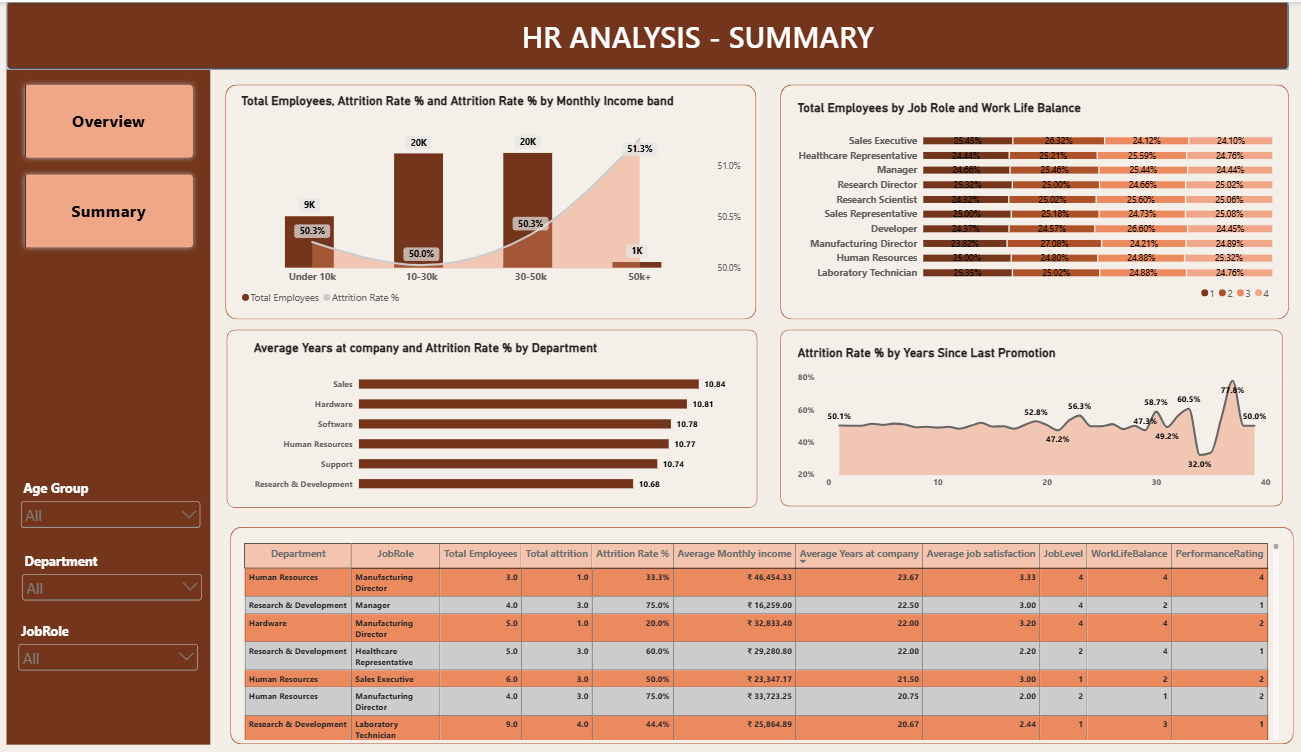

This screenshot's page, from the dashboard's own definition file:
{"tool":"powerbi","page":{"name":"Summary","canvas":[1920,1100],"ordinal":1},"visuals":[{"type":"shape","box":[26,97.4,296.5,982.5],"z":0},{"type":"shape","box":[24.9,0,1866.3,97.8],"z":1000},{"type":"textbox","box":[730.8,19.2,600.4,57.5],"z":2000},{"type":"shape","box":[343.8,120,772.6,341.9],"z":3000},{"type":"shape","box":[1151.3,120,740.1,341.9],"z":4000},{"type":"shape","box":[346.3,476.1,772.6,259.7],"z":5000},{"type":"shape","box":[1151.3,476.1,731.5,257.5],"z":6000},{"type":"slicer","fields":{"Values":["Table1.Age Group"]},"box":[41.1,694.7,270.5,77.9],"z":7000},{"type":"slicer","fields":{"Values":["Table1.Department"]},"box":[43.3,800.7,270.5,77.9],"z":8000},{"type":"slicer","fields":{"Values":["Table1.JobRole"]},"box":[39,902.4,270.5,77.9],"z":9000},{"type":"clusteredBarChart","fields":{"Category":["Table1.Department"],"Y":["Table2.Average Years at company"]},"box":[370.1,478.3,718.5,257.5],"z":10000},{"type":"hundredPercentStackedBarChart","title":"Total Employees by Job Role and Work Life Balance","fields":{"Category":["Table1.JobRole"],"Series":["Table2.WorkLifeBalance"],"Y":["Table1.Total Employees"]},"box":[1160,129.8,722.8,324.6],"z":11000},{"type":"shape","box":[350.6,763.9,1547.4,316],"z":12000},{"type":"lineClusteredColumnComboChart","fields":{"Category":["Table2.Monthly Income band"],"Y":["Table1.Total Employees"],"Y2":["Table1.Attrition Rate %"]},"box":[350.6,119,766.1,341.9],"z":13000},{"type":"lineChart","title":"Attrition Rate % by Years Since Last Promotion","fields":{"Category":["Table2.YearsSinceLastPromotion"],"Y":["Table1.Attrition Rate %"]},"box":[1160,484.8,722.8,242.4],"z":14000},{"type":"tableEx","fields":{"Values":["Table1.Department","Table1.JobRole","Table1.Total Employees","Table1.Total attrition","Table1.Attrition Rate %","Table2.Average Monthly income","Table2.Average Years at company","Table1.Average job satisfaction","Table1.JobLevel","Table2.WorkLifeBalance","Table2.PerformanceRating"]},"box":[354.9,772.6,1538.7,316],"z":15000},{"type":"pageNavigator","box":[43.3,112.5,261.9,253.2],"z":16000}]}

Visuals, with their boxes in screenshot pixels (x1, y1, x2, y2), scaled from the page's 1920x1100 canvas onto the 1301x752 screenshot:
shape: detection(18, 67, 219, 738)
shape: detection(17, 0, 1281, 67)
textbox: detection(495, 13, 902, 52)
shape: detection(233, 82, 756, 316)
shape: detection(780, 82, 1282, 316)
shape: detection(235, 325, 758, 503)
shape: detection(780, 325, 1276, 502)
slicer - Table1.Age Group: detection(28, 475, 211, 528)
slicer - Table1.Department: detection(29, 547, 213, 601)
slicer - Table1.JobRole: detection(26, 617, 210, 670)
clusteredBarChart - Table1.Department x Table2.Average Years at company: detection(251, 327, 738, 503)
"Total Employees by Job Role and Work Life Balance" hundredPercentStackedBarChart: detection(786, 89, 1276, 311)
shape: detection(238, 522, 1286, 738)
lineClusteredColumnComboChart - Table2.Monthly Income band x Table1.Total Employees: detection(238, 81, 757, 315)
"Attrition Rate % by Years Since Last Promotion" lineChart: detection(786, 331, 1276, 497)
tableEx - Table1.Department x Table1.JobRole: detection(240, 528, 1283, 744)
pageNavigator: detection(29, 77, 207, 250)
